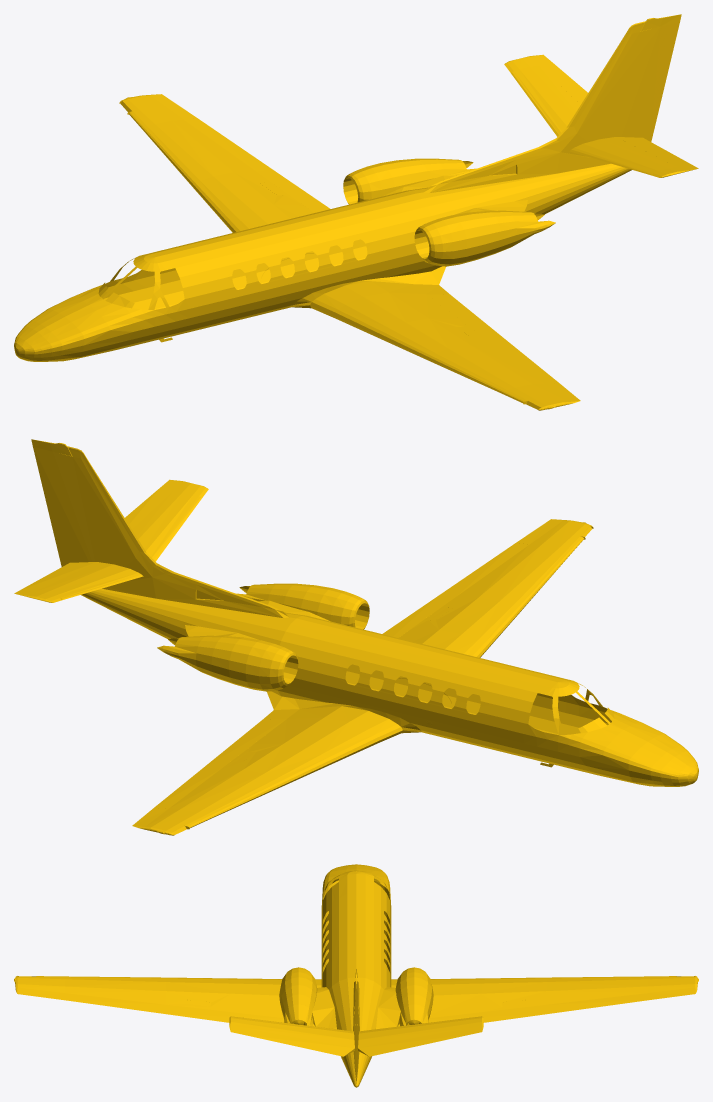
3 views of the same model, one above another, from view 1: azimuth 30°, elevation 25°; view 2: azimuth 150°, elevation 25°; view 3: azimuth 270°, elevation 25° (orthographic). The views are drawn at different scales.
Bounding box in the file's own units: 14.36 × 4.22 × 15.83.
